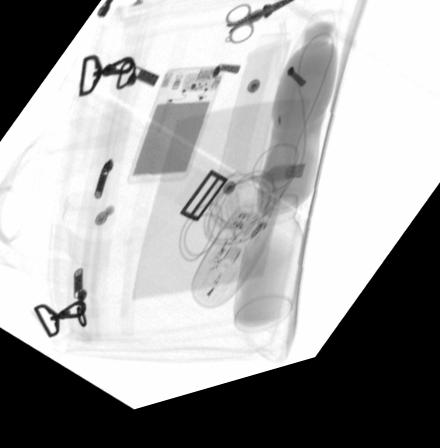Powerbank: (127, 75, 226, 190)
Scissors: (222, 10, 305, 57)
